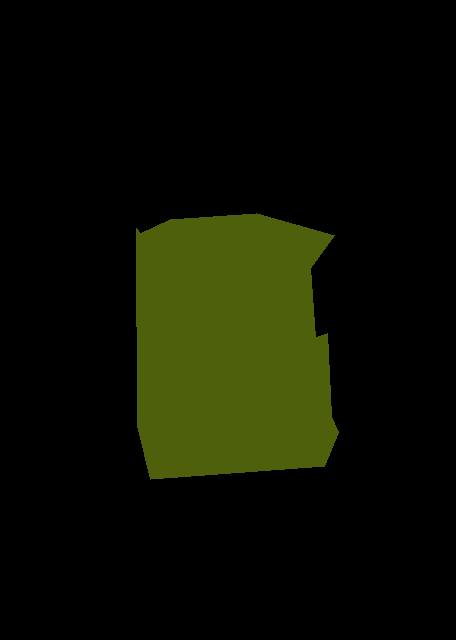Train: (136, 213, 339, 480)
